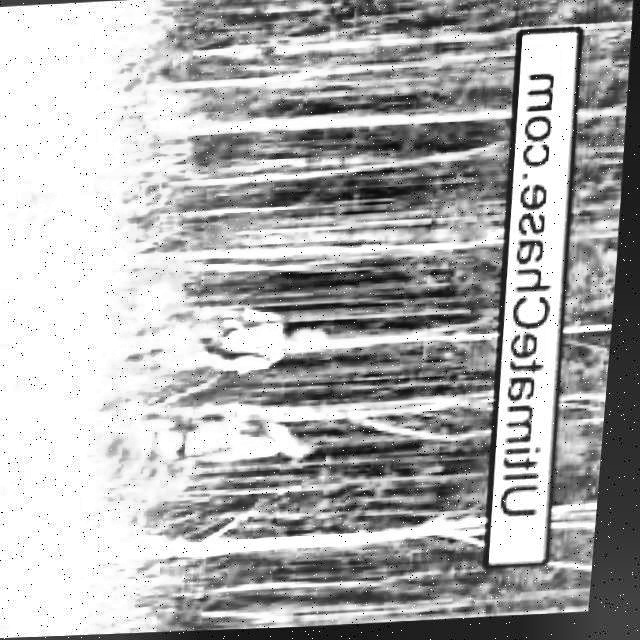Fire: (134, 272, 189, 321)
Smoke: (135, 87, 206, 133)
